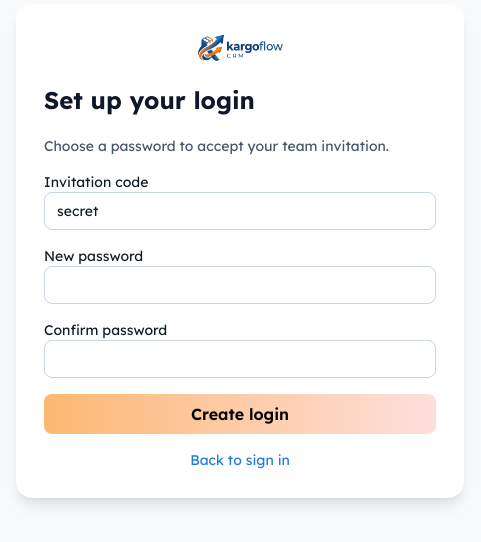
rejects mismatched passwords locally
The image size is (481, 542).
Type "Strong-password-27!" into the password field labelled "New password" at coordinates (240, 285), box [44,266,436,304]
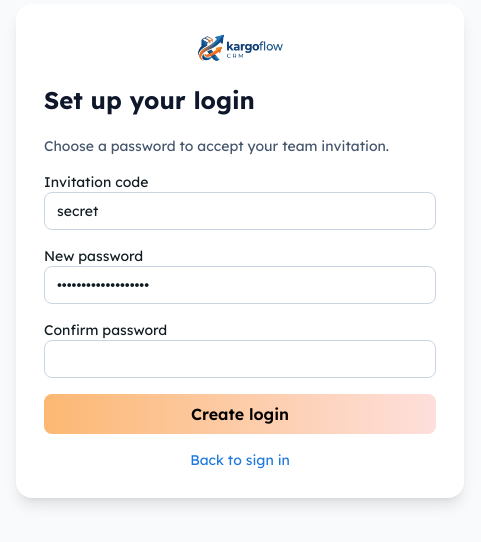
Type "Strong-password-27!" into the password field labelled "Confirm password" at coordinates (240, 359), box [44,340,436,378]
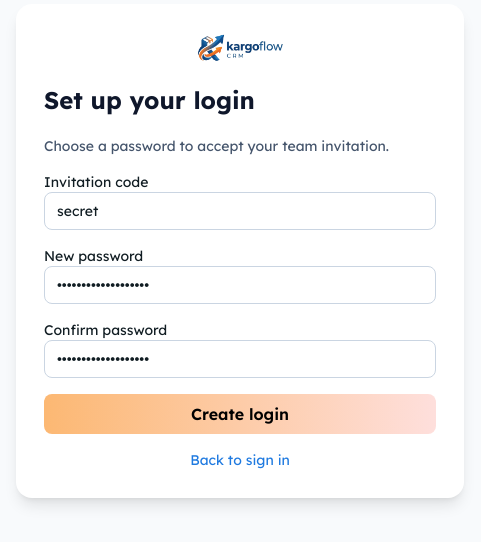
Type "different" into the password field labelled "Confirm password" at coordinates (240, 359), box [44,340,436,378]
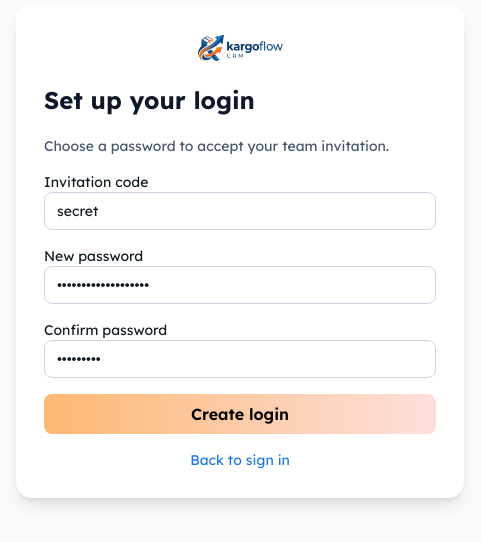
Click the button "Create login" at coordinates (240, 414), box [44,394,436,434]
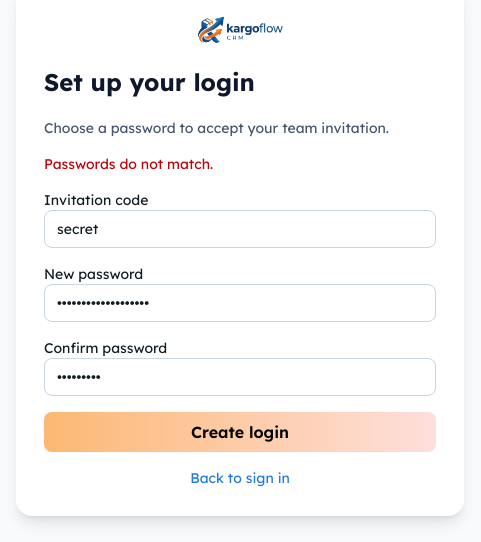
Expected: the message shows "Passwords do not match", [44,155,213,173]
